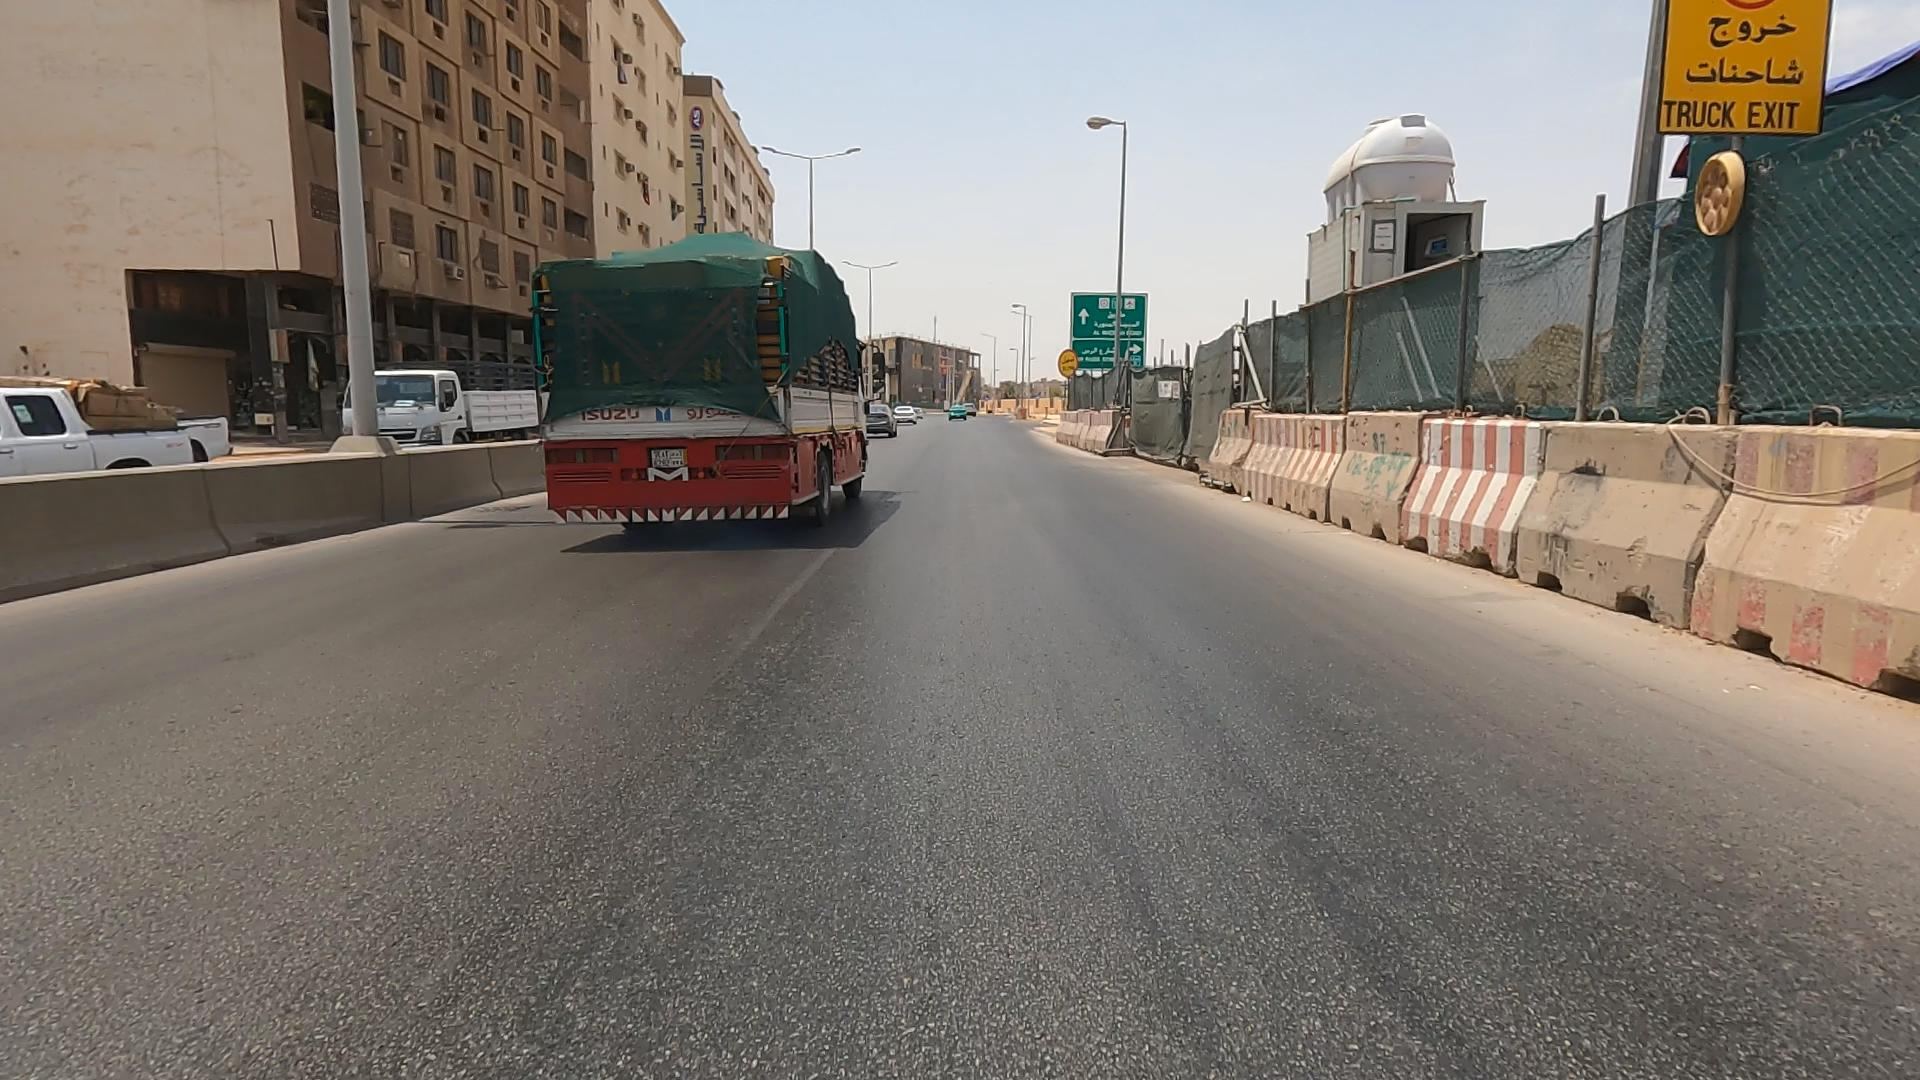CONSTRUCTION_ROAD: (1096, 96, 1905, 824)
